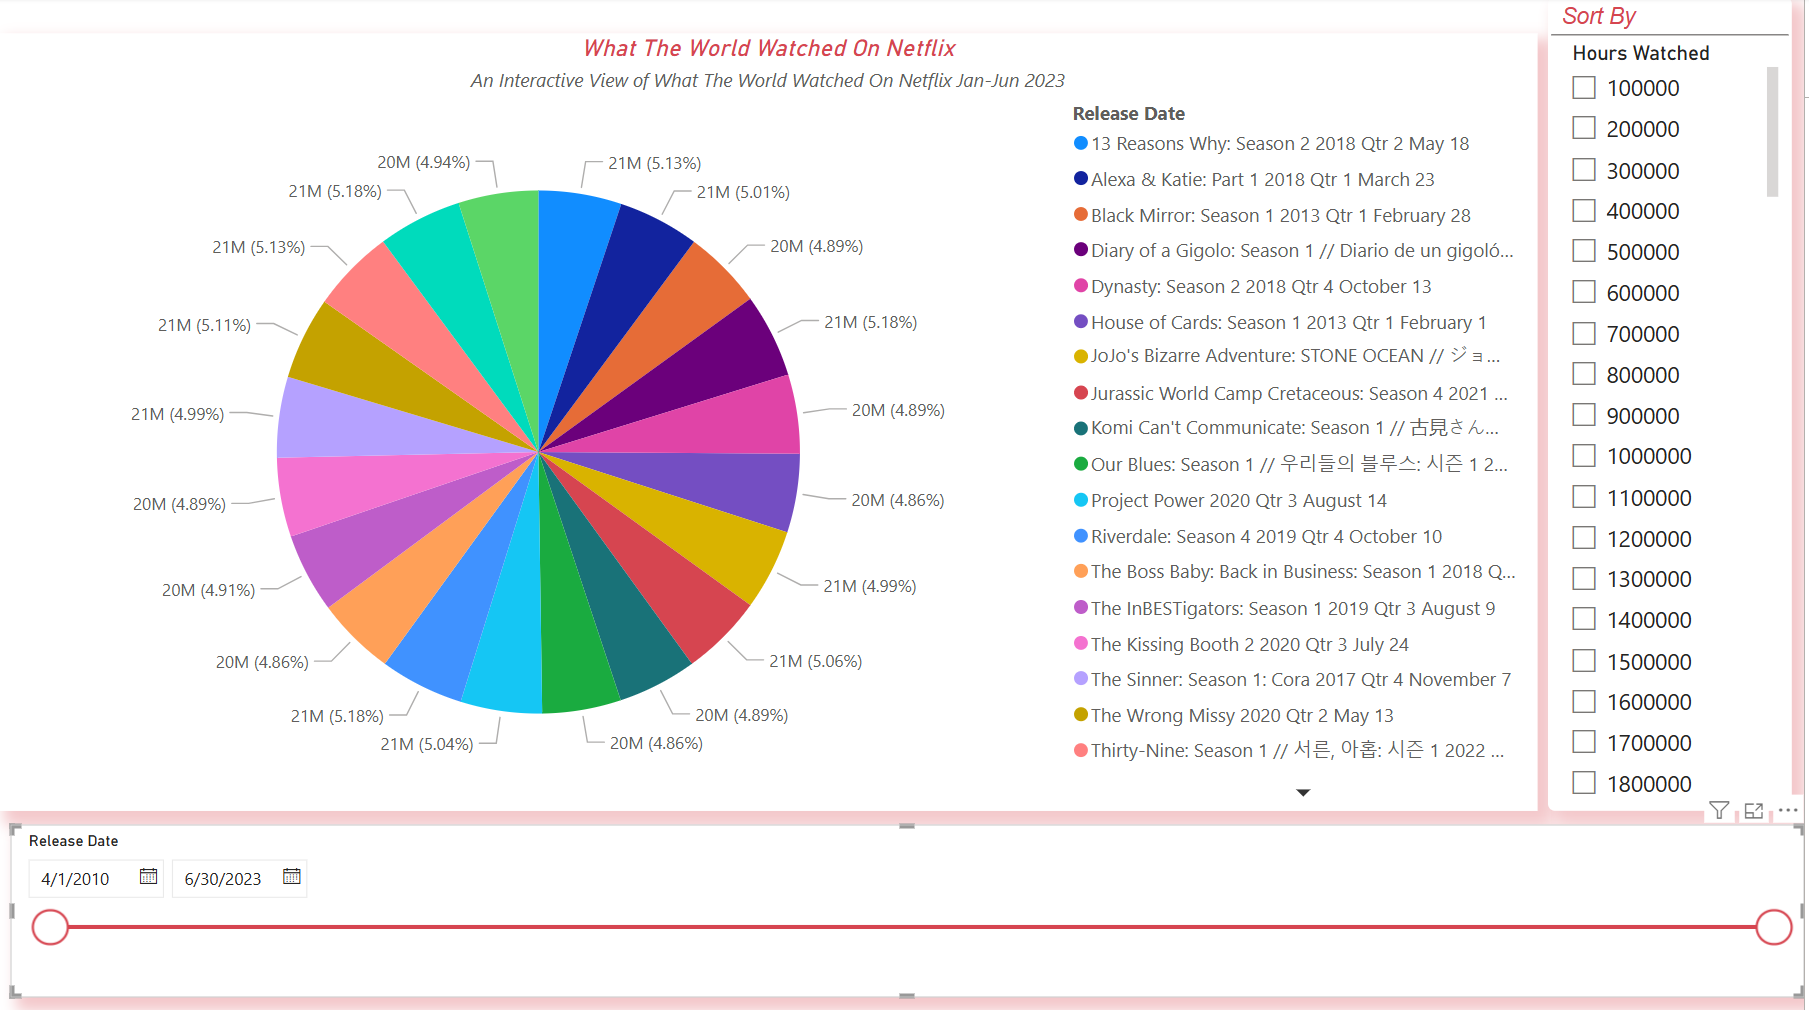

The dashboard page shown, as its layout file describes it:
{"tool":"powerbi","page":{"name":"Page 1","canvas":[1280,720],"ordinal":0},"visuals":[{"type":"pieChart","title":"What The World Watched On Netflix ","fields":{"Category":["2025-04-20 11_37am.TITLE","2025-04-20 11_37am.RELEASE_DATE.Variation.Date Hierarchy.Year","2025-04-20 11_37am.RELEASE_DATE.Variation.Date Hierarchy.Quarter","2025-04-20 11_37am.RELEASE_DATE.Variation.Date Hierarchy.Month","2025-04-20 11_37am.RELEASE_DATE.Variation.Date Hierarchy.Day"],"Y":["Sum(NetflixData.HOURS_VIEWED)"]},"box":[0,25.7,1091.5,551.1],"z":0},{"type":"slicer","title":"Sort By","fields":{"Values":["NetflixData.HOURS_VIEWED"]},"box":[1098.6,0,172.8,576.7],"z":1000},{"type":"slicer","fields":{"Values":["NetflixData.RELEASE_DATE"]},"box":[0,584.7,1271.3,122.3],"z":2000}]}

Visuals, with their boxes on the page's 1280x720 design canvas (x1, y1, x2, y2). These are canvas units, not pixel positions in the 1809x1010 screenshot, which may show the page scaled, cropped or inside an application window:
"What The World Watched On Netflix " pieChart: [left=0, top=26, right=1092, bottom=577]
"Sort By" slicer: [left=1099, top=0, right=1271, bottom=577]
slicer - NetflixData.RELEASE_DATE: [left=0, top=585, right=1271, bottom=707]
